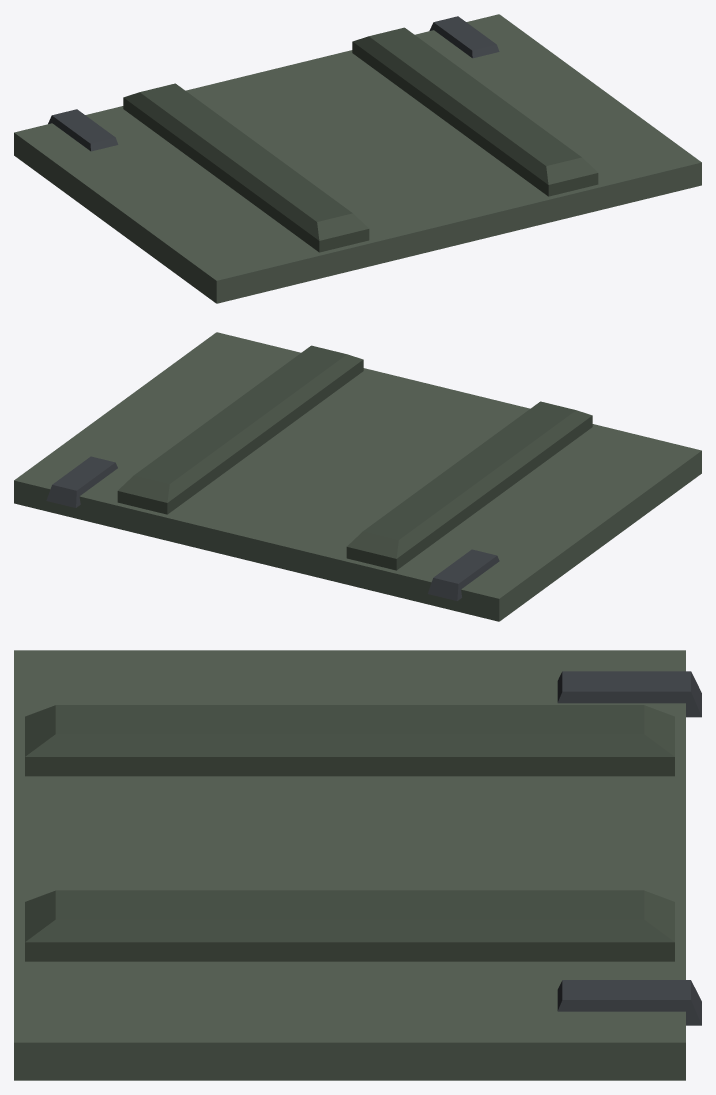
The model's file is SM_Prop_Crate_Ammo_Lid_01.glb.
3 renders of one model, top to bottom at view 1: azimuth 30°, elevation 25°; view 2: azimuth 150°, elevation 25°; view 3: azimuth 270°, elevation 25°, orthographic. The views are drawn at different scales.
Visible parts, largest first — view 1: SM_Prop_Crate_Ammo_Lid_01; view 2: SM_Prop_Crate_Ammo_Lid_01; view 3: SM_Prop_Crate_Ammo_Lid_01.
Boxes of the visible parts, box(x1,y1,x2,y2) form: SM_Prop_Crate_Ammo_Lid_01: box(14, 14, 701, 303); SM_Prop_Crate_Ammo_Lid_01: box(14, 332, 701, 621); SM_Prop_Crate_Ammo_Lid_01: box(14, 650, 701, 1080).
Size of the model in its own units: 1.09 by 0.0964 by 0.8066.
Materials: 1 (1 with a texture image).
